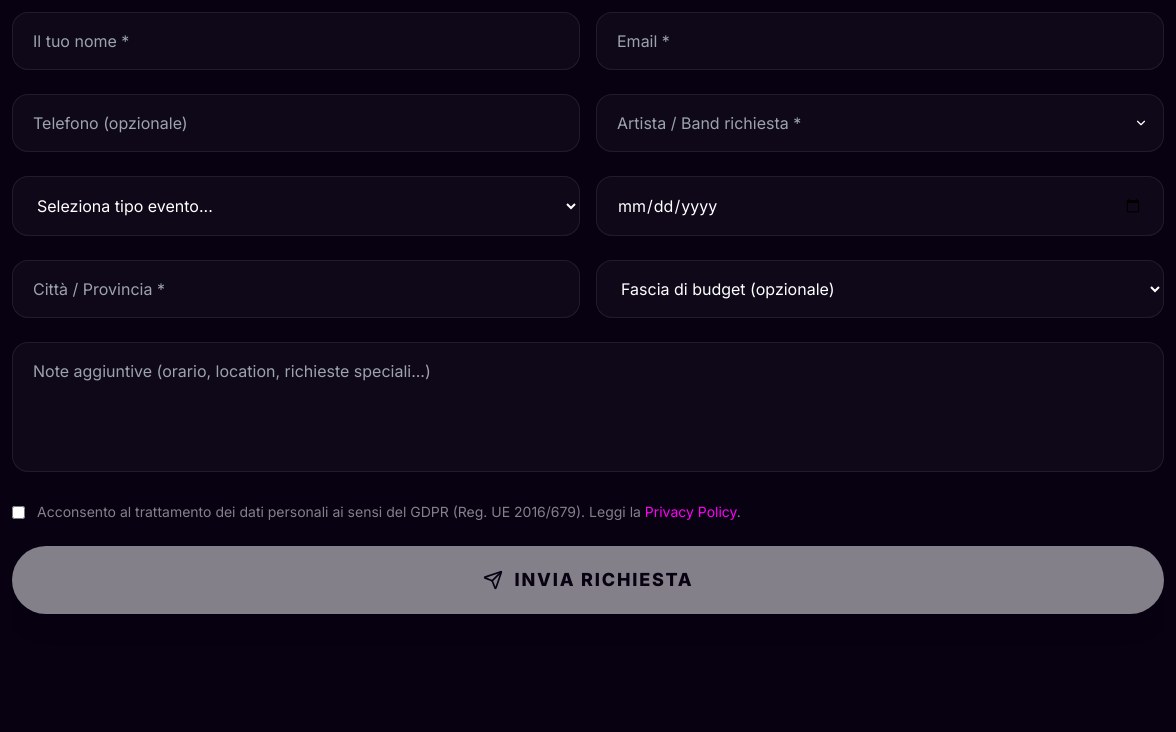
Test: BookingForm › shows autocomplete dropdown when typing
The width and height of the screenshot is (1176, 732).
Click the field with placeholder "Artista / Band richiesta *": point(880, 123) [596, 94, 1164, 152]
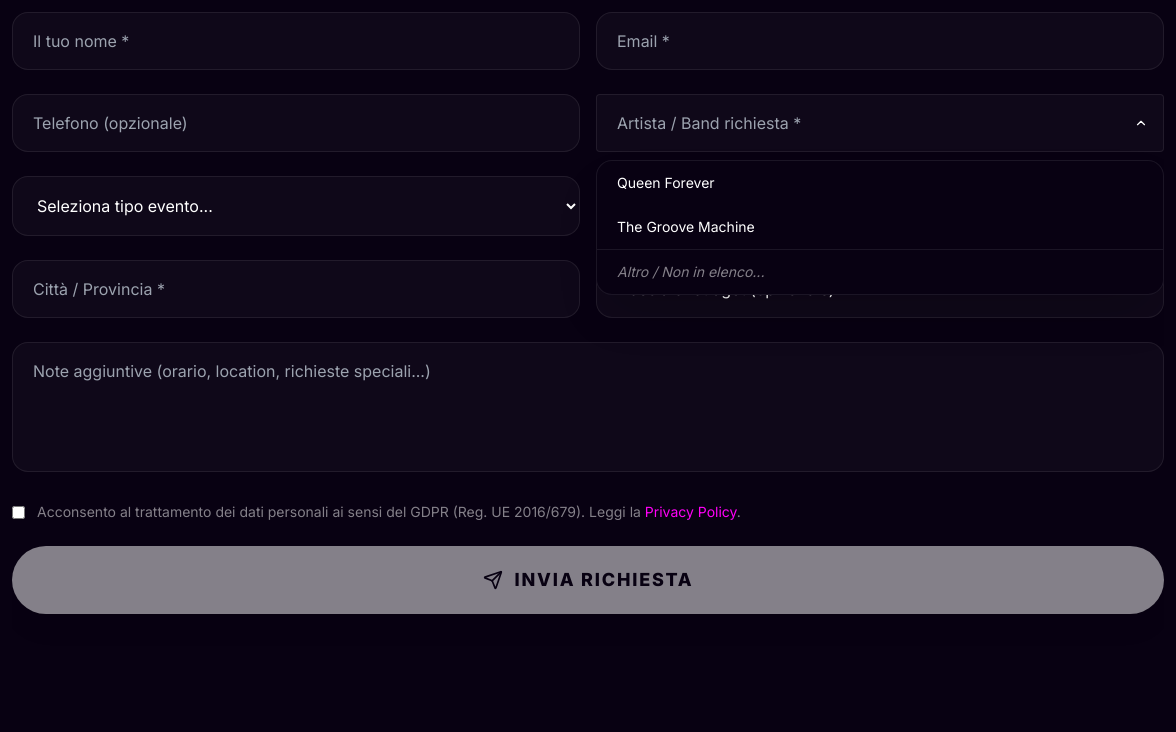
Result: the option "Altro / Non in elenco..." is shown at [617, 263, 764, 280]
